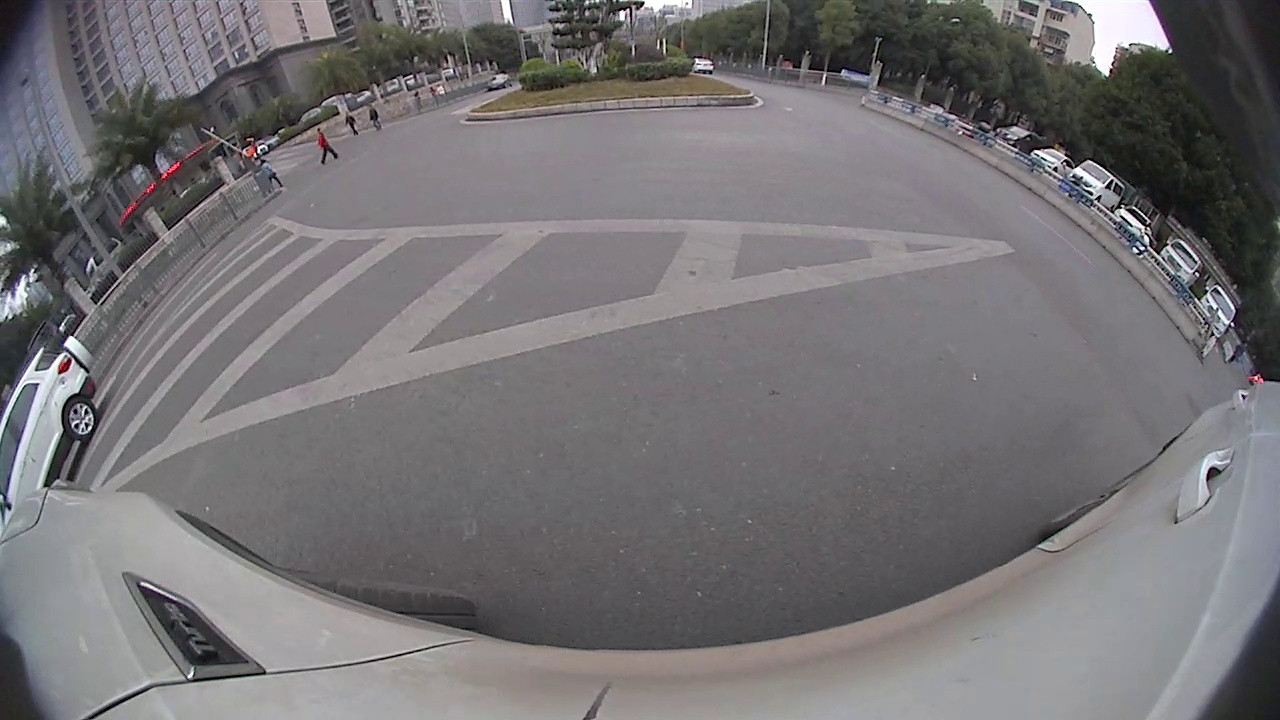bus: (1, 239, 66, 396)
car: (1073, 235, 1221, 417), (1205, 374, 1258, 462)
front: (1178, 392, 1211, 419)
rear: (1139, 368, 1186, 410), (1221, 436, 1240, 453)
